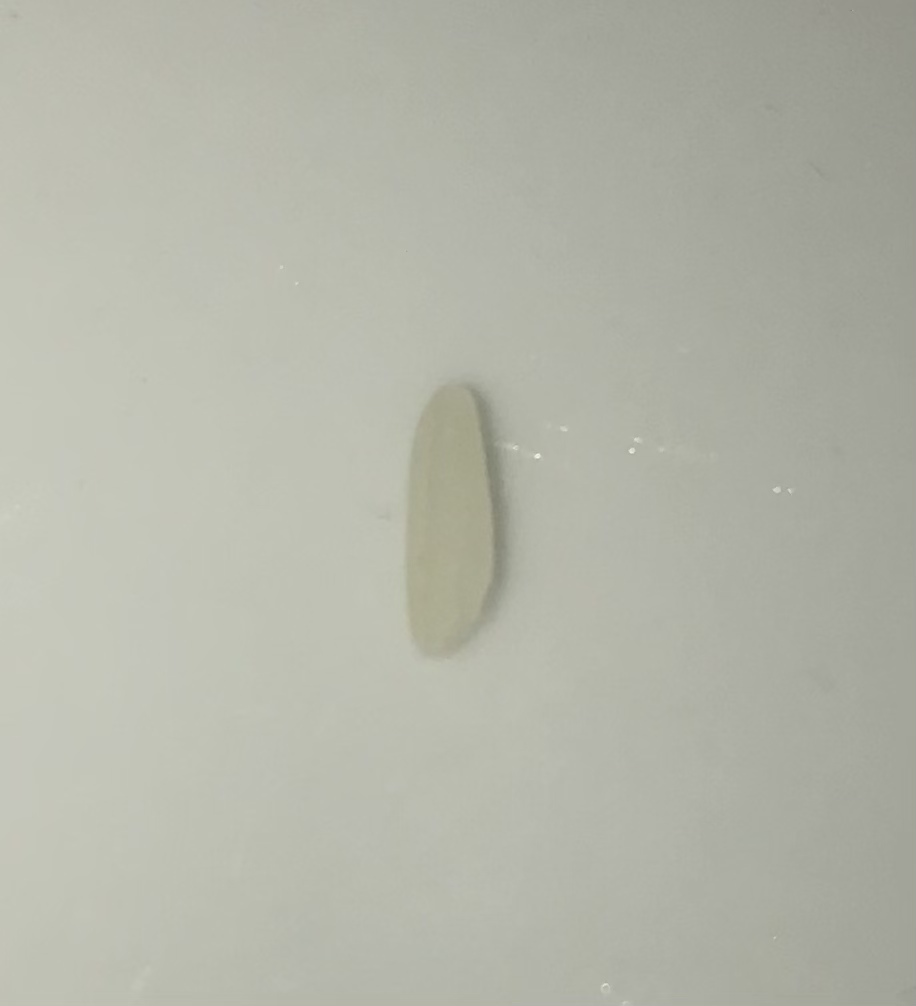Gao Thom Go Cong: (402, 360, 516, 683)
